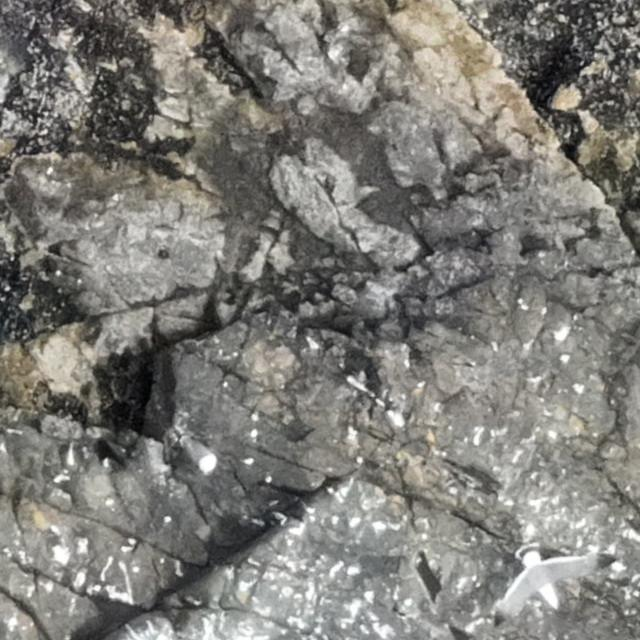F: (503, 551, 603, 615)
umineko: (185, 435, 219, 476)
